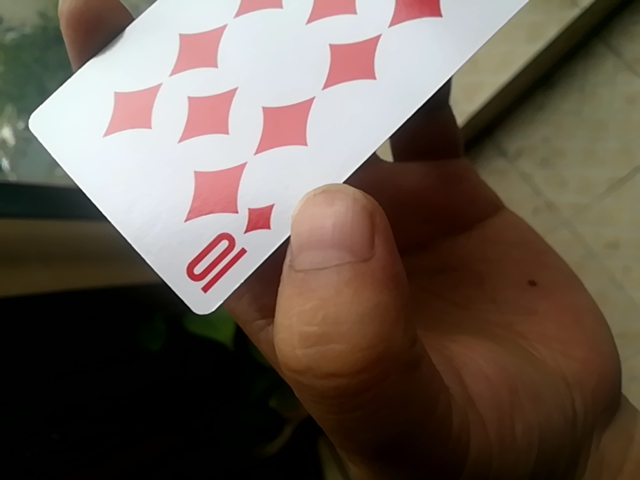fk 10: (0, 0, 573, 313)
